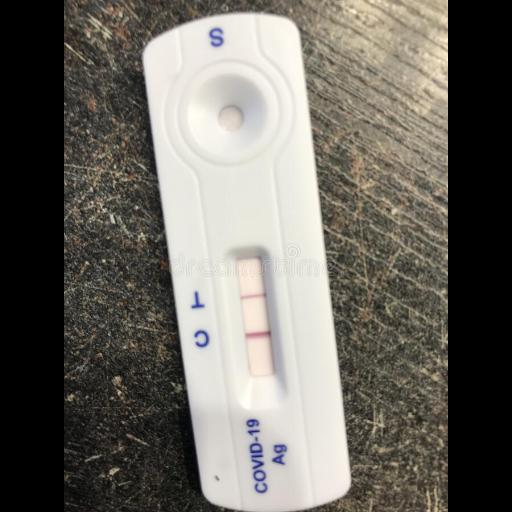Pos: (135, 9, 351, 511)
